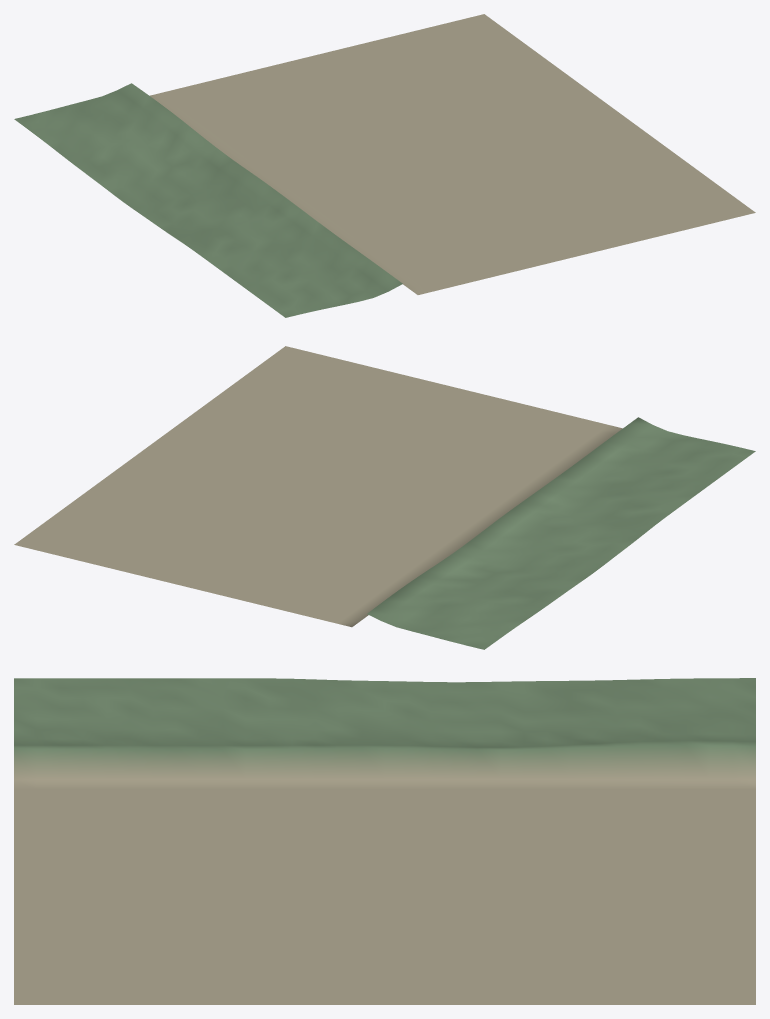
The picture shows the model from 3 angles, top to bottom: view 1: azimuth 30°, elevation 25°; view 2: azimuth 150°, elevation 25°; view 3: azimuth 270°, elevation 25°; orthographic projection. The views are drawn at different scales.
Visible parts, largest first — view 1: Terrain-col; view 2: Terrain-col; view 3: Terrain-col.
Part boxes in pixels (x1,y1,x2,y2): Terrain-col: (14,14,755,317); Terrain-col: (14,346,755,649); Terrain-col: (14,678,755,1004).
Bounding box in the file's own units: 256 × 9.06 × 256.
